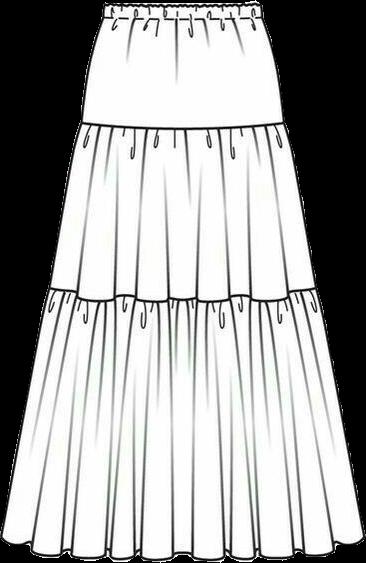Hemline: (0, 532, 365, 562)
Waistline: (43, 286, 317, 305), (78, 118, 287, 133), (103, 13, 261, 24), (104, 0, 262, 10)
